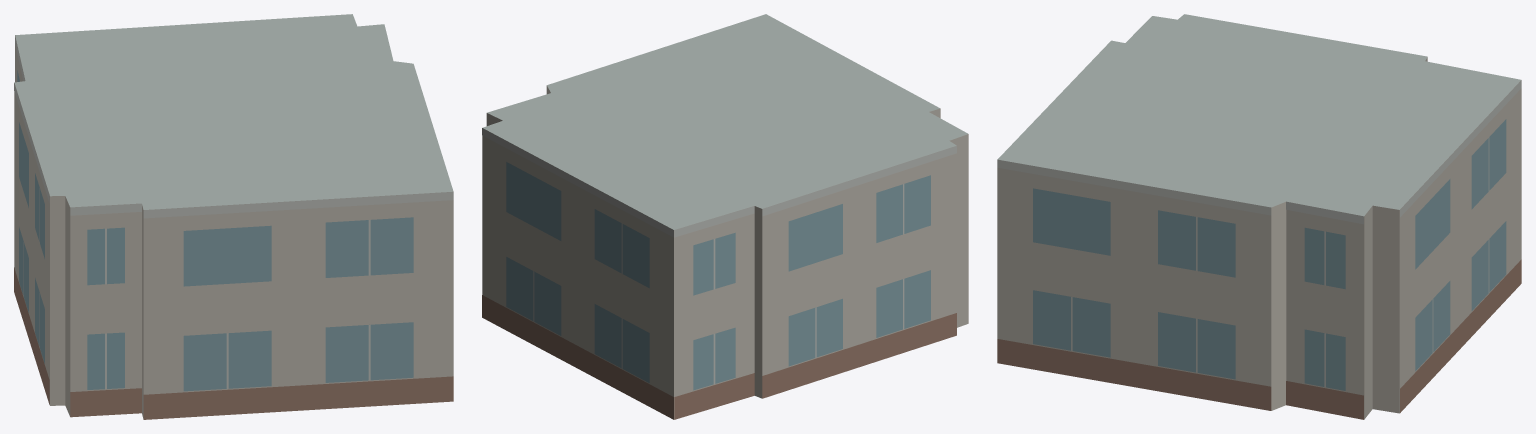
The model's file is survey-upis-32818078.glb.
3 renders of one model, left to right at view 1: azimuth 30°, elevation 25°; view 2: azimuth 150°, elevation 25°; view 3: azimuth 270°, elevation 25°, orthographic. The views are drawn at different scales.
Parts seen in each view (by area): view 1: survey-upis-32818078.tmp; view 2: survey-upis-32818078.tmp; view 3: survey-upis-32818078.tmp.
Part boxes in pixels (<box>): survey-upis-32818078.tmp: <box>14,14,453,419</box>; survey-upis-32818078.tmp: <box>482,14,968,419</box>; survey-upis-32818078.tmp: <box>997,14,1521,419</box>.
Size of the model in its own units: 13.01 by 6.1 by 14.25.
